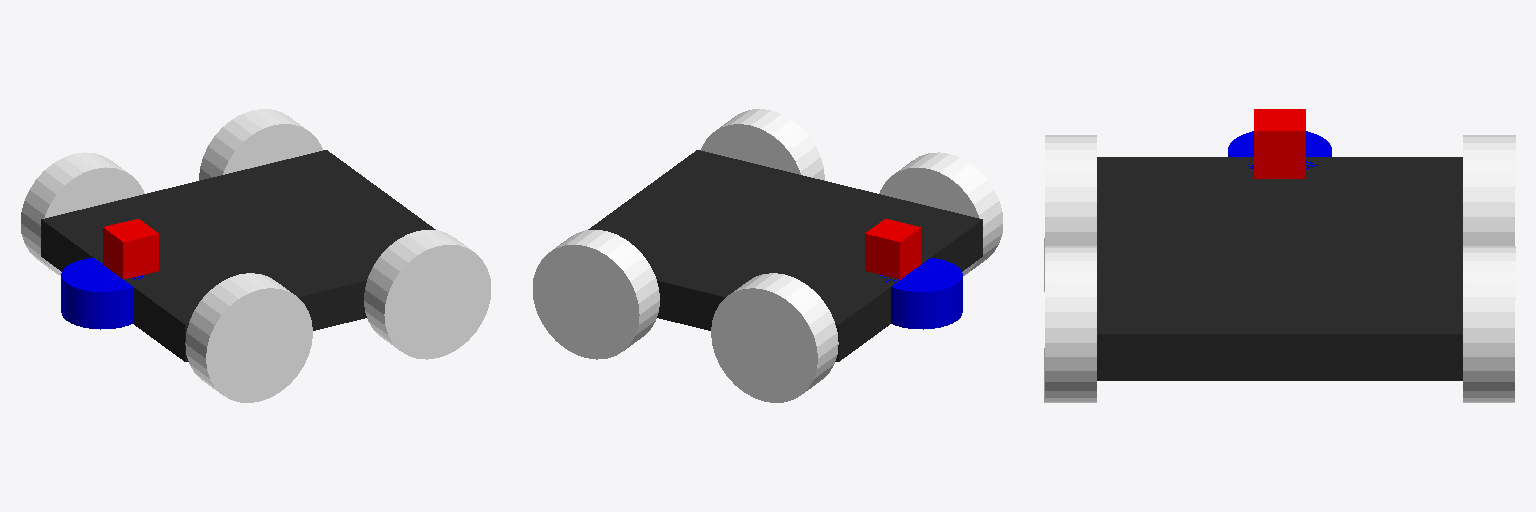
robot.urdf — robot:
<?xml version="1.0" ?>

<robot name="robot">


    <link name="chassis">
        <visual>
            <geometry>
                <box size=".8 0.7 0.1"/>
            </geometry>
            <material name="gray">
            <color rgba=".2 .2 .2 1" />
            </material>
        </visual>
        <inertial>
            <mass value="2" />
            <inertia ixx="0.04" ixy="0.0" ixz="0"
            iyy="0.17" iyz="0" izz="0.25" />
        </inertial>
    
        <collision>
            <geometry>
                <box size=".8 0.7 0.1"/>
            </geometry>
        </collision>
    </link>


    <link name="wheel_front_right">
        <inertial>
            <mass value="2" />
            <inertia ixx="1e-3" ixy="0.0" ixz="0"
            iyy="1e-3" iyz="0" izz="1e-3" />
        </inertial>

        <visual>
            <geometry>
                <cylinder radius="0.15" length="0.1"/>
            </geometry>
            <material name="white">
                <color rgba="1 1 1 1"/>
            </material>
        </visual>

        <collision>
            <geometry>
                <cylinder radius="0.15" length="0.1"/>
            </geometry>
            <contact_coefficients mu="1" kp="1e+13" kd="1.0"/>
        </collision>
    </link>

    <joint name="wheel_front_right_joint" type="continuous">
        <origin xyz="0.25 0.4 0.0" rpy="1.57 0.0 0.0"/>
        <parent link="chassis"/>
        <child link="wheel_front_right"/>
        <axis xyz="0.0 0.0 1.0"/>
    </joint>

    <link name="wheel_front_left">
        <inertial>
            <mass value="2" />
            <inertia ixx="1e-3" ixy="0.0" ixz="0"
            iyy="1e-3" iyz="0" izz="1e-3" />
        </inertial>

        <visual>      
            <geometry>
                <cylinder radius="0.15" length="0.1"/>
            </geometry>
            <material name="white">
                <color rgba="1 1 1 1"/>
            </material>
        </visual>
        <collision>
            <geometry>
                <cylinder radius="0.15" length="0.1"/>
            </geometry>
            <contact_coefficients mu="1" kp="1e+13" kd="1.0"/>
        </collision>
    </link>

    <joint name="wheel_front_left_joint" type="continuous">
        <origin xyz="0.25 -0.4 0.0" rpy="1.57 0.0 0.0"/>
        <parent link="chassis"/>
        <child link="wheel_front_left"/>
        <axis xyz="0.0 0.0 1.0"/>
    </joint>

    <link name="wheel_back_right">
        <inertial>
            <mass value="2" />
            <inertia ixx="1e-3" ixy="0.0" ixz="0"
            iyy="1e-3" iyz="0" izz="1e-3" />
        </inertial>
        <visual>
            <geometry>
                <cylinder radius="0.15" length="0.1"/>
            </geometry>
            <material name="white">
                <color rgba="1 1 1 1"/>
            </material>
        </visual>

        <collision>
            <geometry>
                <cylinder radius="0.15" length="0.1"/>
            </geometry>
            <contact_coefficients mu="1" kp="1e+13" kd="1.0"/>
        </collision>
    </link>

    <joint name="wheel_back_right_joint" type="continuous">
        <origin xyz="-0.25 0.4 0.0" rpy="1.57 0.0 0.0"/>
        <parent link="chassis"/>
        <child link="wheel_back_right"/>
        <axis xyz="0.0 0.0 1.0"/>
    </joint>

    <link name="wheel_back_left">
        <inertial>
            <mass value="2" />
            <inertia ixx="1e-3" ixy="0.0" ixz="0"
            iyy="1e-3" iyz="0" izz="1e-3" />
        </inertial>

        <visual>
            <geometry>
                <cylinder radius="0.15" length="0.1"/>
            </geometry>
            <material name="white">
                <color rgba="1 1 1 1"/>
            </material>
        </visual>

        <collision>
            <geometry>
                <cylinder radius="0.15" length="0.1"/>
            </geometry>
            <contact_coefficients mu="1" kp="1e+13" kd="1.0"/>
        </collision>
    </link>

    <joint name="wheel_back_left_joint" type="continuous">
        <origin xyz="-0.25 -0.4 0.0" rpy="1.57 0.0 0.0"/>
        <parent link="chassis"/>
        <child link="wheel_back_left"/>
        <axis xyz="0.0 0.0 1.0"/>
    </joint>

    <link name="camera">
        <inertial>
            <mass value="0.5" />
            <inertia ixx="0.01" ixy="0.0" ixz="0"
            iyy="0.01" iyz="0" izz="0.01" />
        </inertial>

        <visual>      
            <geometry>
                <box size="0.1 0.1 0.1"/>
            </geometry>
            <material name="red">
                <color rgba="1 0 0 1"/>
            </material>
        </visual>

        <collision>
            <geometry>
                <box size="0.1 0.1 0.1"/>
            </geometry>
        </collision>
    </link>

    <joint name="camera_joint" type="fixed">
        <origin xyz="-0.35 0 0.1" rpy="0 0.0 3.14"/>
        <parent link="chassis"/>
        <child link="camera"/>
        <axis xyz="0.0 0.0 1.0"/>

    </joint>

    <link name="lidar">
        <inertial>
            <mass value="0.5" />
            <inertia ixx="0.01" ixy="0.0" ixz="0"
            iyy="0.01" iyz="0" izz="0.01" />
        </inertial>

        <visual>
            <geometry>
                <cylinder radius="0.1" length="0.1"/>
            </geometry>
            <material name="blue">
                <color rgba="0 0 1  1"/>
            </material>
        </visual>

        <collision>
            <geometry>
                <cylinder radius="0.1" length="0.1"/>
            </geometry>
        </collision>
    </link>

    <joint name="lidar_joint" type="fixed">
        <origin xyz="-0.43 0 0.0" rpy="0 0.0 1.57"/>
        <parent link="chassis"/>
        <child link="lidar"/>
        <axis xyz="0.0 0.0 1.0"/>
    </joint>



<!-- Differential Drive -->

    <gazebo>
        <plugin name='diff_drive' filename='libgazebo_ros_diff_drive.so'>
            <left_joint>wheel_front_left_joint</left_joint>
            <right_joint>wheel_front_right_joint</right_joint>
            <wheel_separation>0.8</wheel_separation>
            <wheel_diameter>0.3</wheel_diameter>
            <max_wheel_torque>20</max_wheel_torque>
            <max_wheel_acceleration>1.0</max_wheel_acceleration>]
            <publish_odom>true</publish_odom>
            <publish_odom_tf>true</publish_odom_tf>
            <publish_wheel_tf>true</publish_wheel_tf>
            <odometry_frame>base_footprint</odometry_frame>
            <robot_base_frame>chassis</robot_base_frame>
        </plugin>
    </gazebo>

<!-- Camera Plugin -->
    <gazebo reference="camera">
        <sensor type="camera" name="camera1">
        <update_rate>30.0</update_rate>
        <camera name="head">
            <horizontal_fov>1.3962634</horizontal_fov>
            <image>
                <width>800</width>
                <height>800</height>
                <format>R8G8B8</format>
            </image>
            <clip>
                <near>0.02</near>
                <far>300</far>
            </clip>
            <noise>
                <type>gaussian</type>
                <mean>0.0</mean>
                <stddev>0.007</stddev>
            </noise>
        </camera>
        <plugin name="camera_controller" filename="libgazebo_ros_camera.so">
            <alwaysOn>true</alwaysOn>
            <updateRate>10.0</updateRate>
            <cameraName>/camera</cameraName>
            <imageTopicName>image_raw</imageTopicName>
            <cameraInfoTopicName>camera_info</cameraInfoTopicName>
            <frameName>camera_link</frameName>
            <hackBaseline>0.07</hackBaseline>
        </plugin>
        </sensor>
        <material>Gazebo/Black</material>
    </gazebo>
<!-- Lidar Plugin -->
   <gazebo reference="lidar">
        <sensor name="gazebo_lidar" type="ray">
            <visualize>true</visualize>
            <update_rate>12.0</update_rate>
            <plugin filename="libgazebo_ros_ray_sensor.so" name="gazebo_lidar">
                <ros>
                    <remapping>~/out:=scan</remapping>
                </ros>
        
                <output_type>sensor_msgs/LaserScan</output_type>
                <frame_name>lidar</frame_name>
            </plugin>
        <ray>
        <scan>
            <horizontal>
                <samples>360</samples>
                <resolution>1</resolution>
                <min_angle>0.00</min_angle>
                <max_angle>3.14</max_angle>
            </horizontal>
        </scan>
        <range>
            <min>0.120</min>
            <max>3.5</max>
            <resolution>0.015</resolution>
        </range>
        <noise>
            <type>gaussian</type>
            <mean>0.0</mean>
            <stddev>0.01</stddev>
        </noise>
        </ray>
        </sensor>
    <material>Gazebo/Blue</material>
    </gazebo>

</robot>

--- Render facts (derived) ---
3 views of the same robot in one strip: view 1: azimuth 30°, elevation 25°; view 2: azimuth 150°, elevation 25°; view 3: azimuth 270°, elevation 25° (orthographic).
Robot: robot — 7 links, 6 joints (4 continuous, 2 fixed); root link chassis; default pose: all joints at 0.
Links seen in each view (by area): view 1: chassis, wheel_back_left, wheel_front_left, wheel_back_right, wheel_front_right, lidar, camera; view 2: chassis, wheel_back_right, wheel_front_right, wheel_back_left, wheel_front_left, lidar, camera; view 3: chassis, wheel_front_left, wheel_front_right, wheel_back_right, wheel_back_left, camera, lidar.
Boxes of the visible links, <box> form: chassis: <box>41,150,435,361</box>; wheel_back_left: <box>185,273,312,402</box>; wheel_front_left: <box>364,230,490,359</box>; wheel_back_right: <box>21,152,144,275</box>; wheel_front_right: <box>199,109,322,180</box>; lidar: <box>61,258,143,329</box>; camera: <box>103,219,158,279</box>; chassis: <box>588,150,982,361</box>; wheel_back_right: <box>711,273,838,402</box>; wheel_front_right: <box>533,230,659,359</box>; wheel_back_left: <box>879,152,1002,275</box>; wheel_front_left: <box>701,109,824,180</box>; lidar: <box>880,258,962,329</box>; camera: <box>865,219,920,279</box>; chassis: <box>1097,157,1462,380</box>; wheel_front_left: <box>1044,246,1096,402</box>; wheel_front_right: <box>1463,246,1515,402</box>; wheel_back_right: <box>1463,135,1515,245</box>; wheel_back_left: <box>1044,135,1096,291</box>; camera: <box>1254,109,1305,178</box>; lidar: <box>1228,131,1331,168</box>.
Size in the robot's own frame: 0.93 by 0.9002 by 0.3001 metres.
Geometry: primitives only (box / cylinder / sphere), no mesh files.
